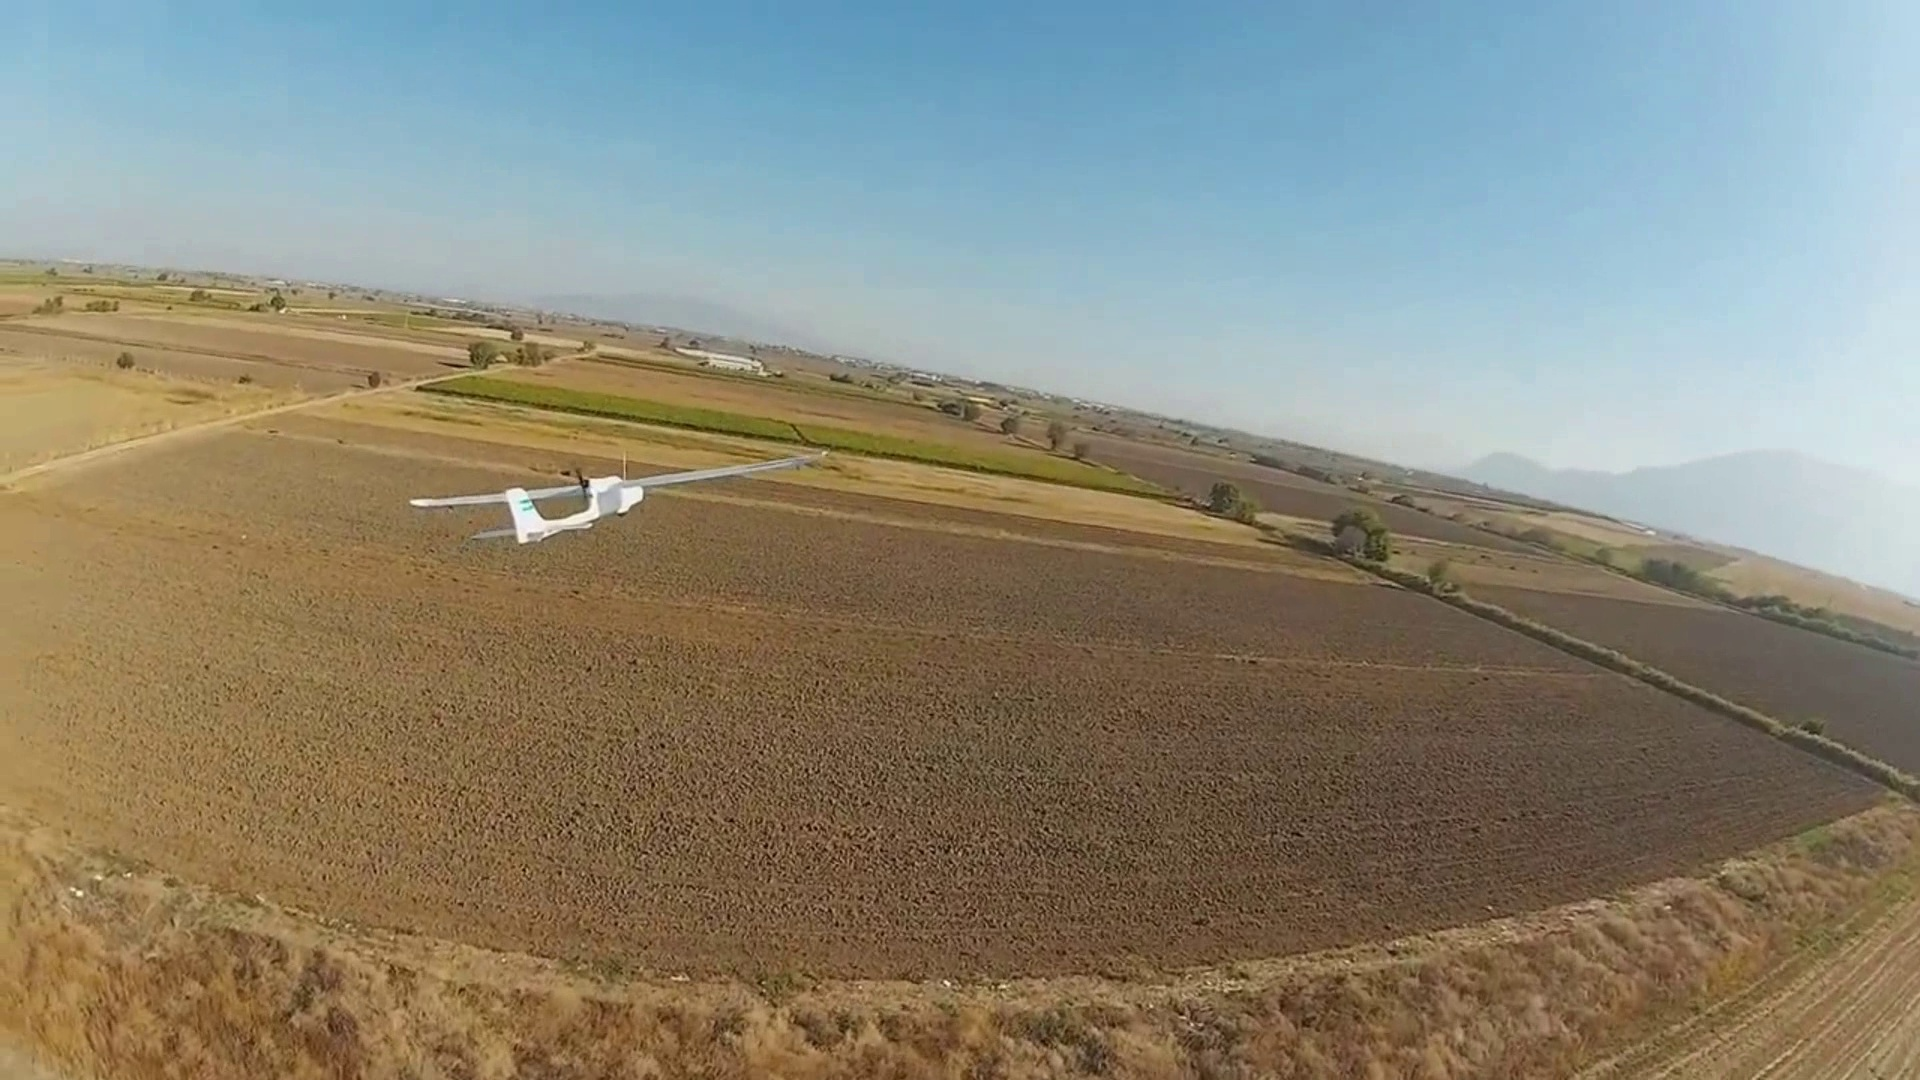airplane: (408, 472, 644, 545)
